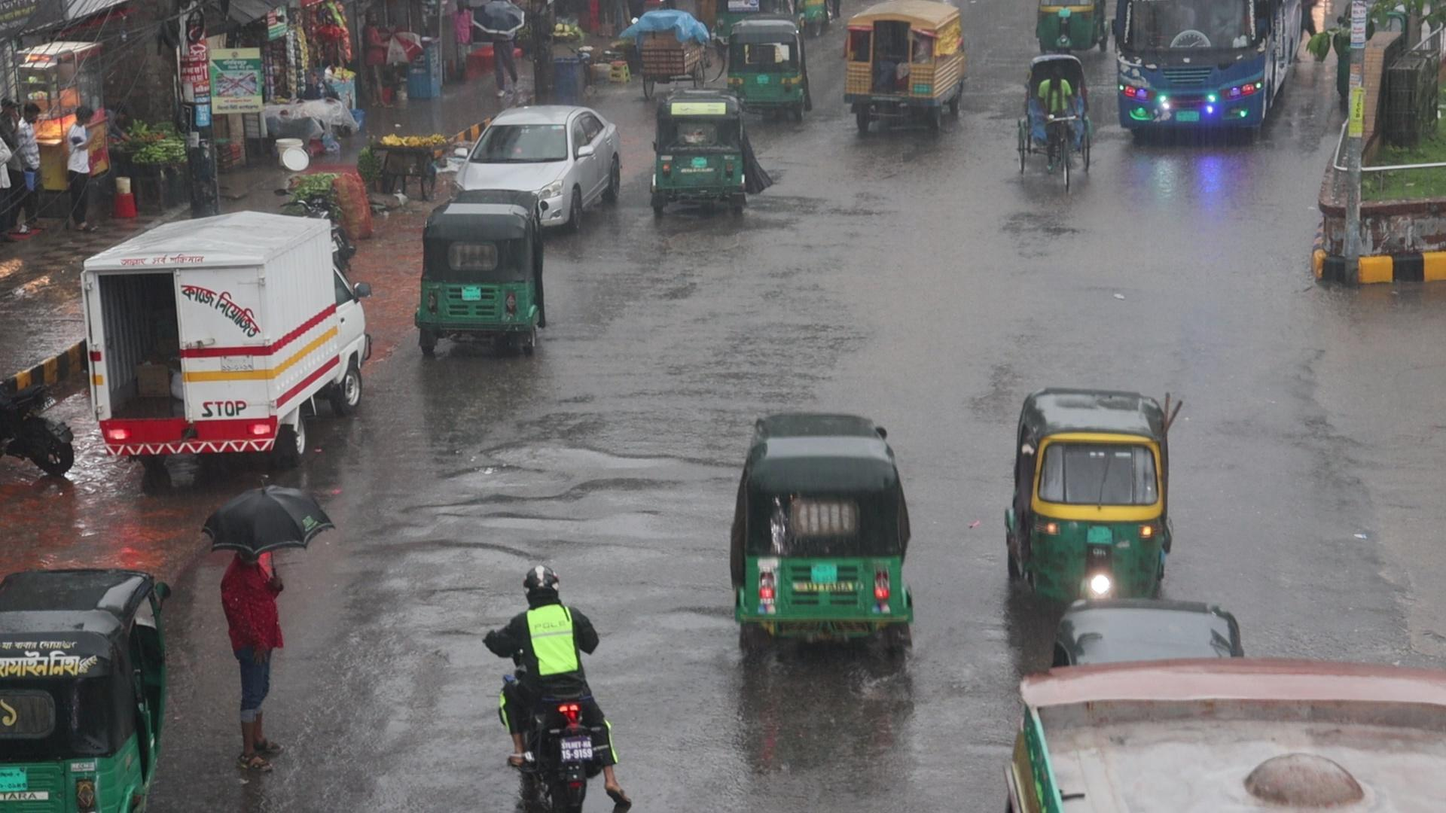Bike: (481, 564, 607, 813)
Truck: (842, 0, 967, 132)
